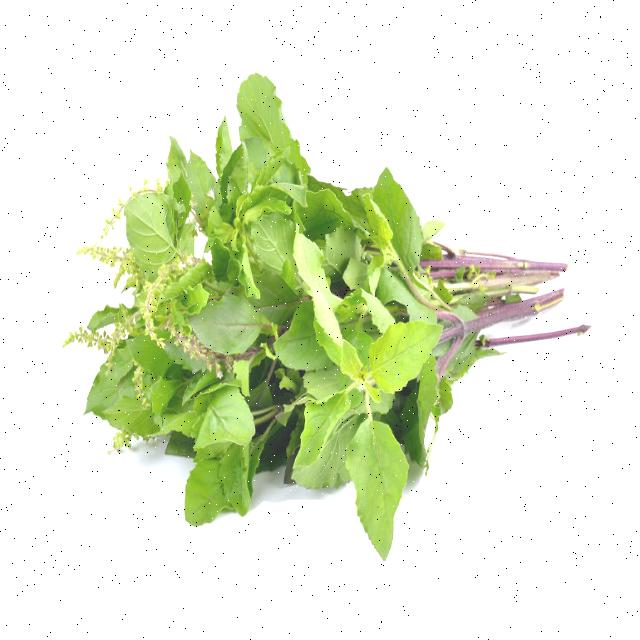NA: (90, 86, 572, 509)
